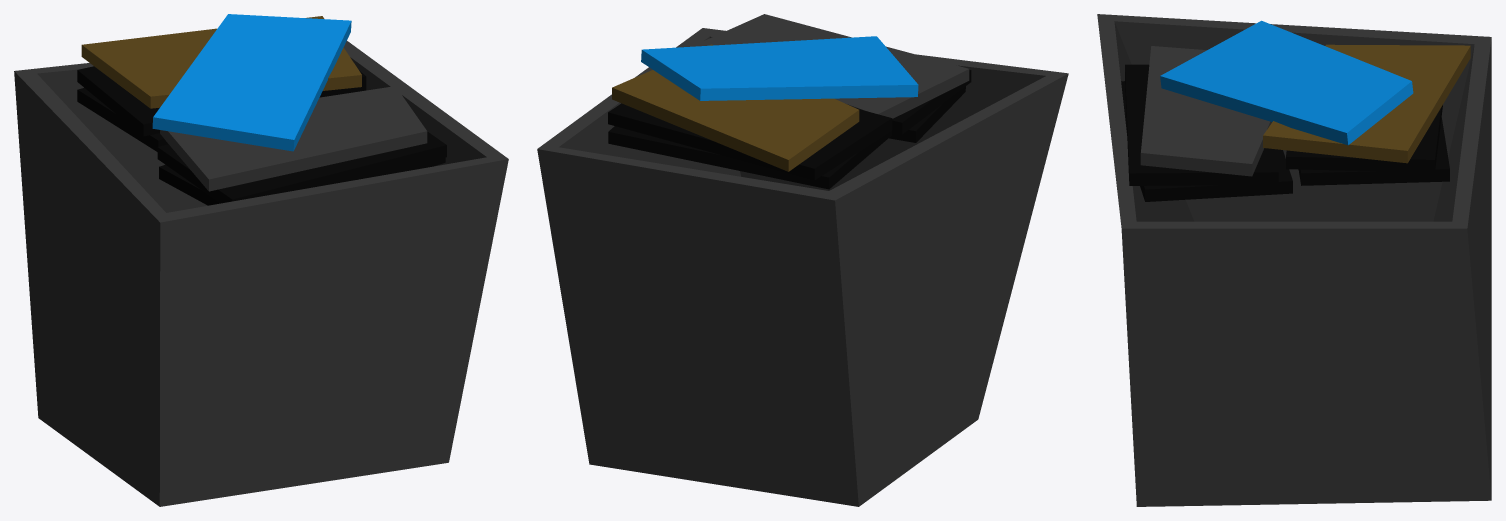
The model's file is SM_box_books.fbx.
3 renders of one model, left to right at view 1: azimuth 30°, elevation 25°; view 2: azimuth 150°, elevation 25°; view 3: azimuth 270°, elevation 25°, orthographic. The views are drawn at different scales.
Visible parts, largest first — view 1: Caja_libros, Libro_10, Libro_7, Libro_6, Libro_8, Libro_5, Libro_4, Libro_9; view 2: Caja_libros, Libro_10, Libro_6, Libro_7, Libro_5, Libro_4, Libro_8, Libro_9; view 3: Caja_libros, Libro_10, Libro_7, Libro_6, Libro_8, Libro_5, Libro_9, Libro_4.
Boxes of the visible parts, x1,y1,x2,y2 form: Caja_libros: (14, 41, 508, 506); Libro_10: (152, 14, 351, 151); Libro_7: (160, 86, 427, 191); Libro_6: (81, 16, 361, 108); Libro_8: (157, 131, 446, 203); Libro_5: (77, 66, 366, 136); Libro_4: (77, 88, 366, 151); Libro_9: (159, 157, 445, 205); Caja_libros: (537, 28, 1068, 506); Libro_10: (641, 36, 918, 100); Libro_6: (612, 44, 859, 171); Libro_7: (692, 14, 969, 118); Libro_5: (608, 103, 892, 180); Libro_4: (608, 126, 891, 189); Libro_8: (892, 69, 971, 134); Libro_9: (889, 86, 965, 142); Caja_libros: (1097, 14, 1491, 506); Libro_10: (1160, 20, 1413, 145); Libro_7: (1140, 46, 1271, 176); Libro_6: (1263, 44, 1470, 163); Libro_8: (1125, 64, 1278, 185); Libro_5: (1286, 105, 1442, 172); Libro_9: (1121, 81, 1292, 201); Libro_4: (1298, 118, 1449, 185).
Size of the model in its own units: 0.7274 by 0.7172 by 0.6708.
